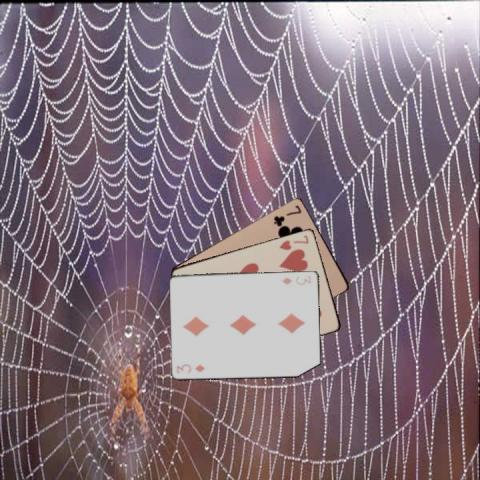3d: (279, 273, 313, 286), (174, 361, 207, 374)
7c: (270, 201, 302, 227)
7h: (275, 232, 310, 251)
